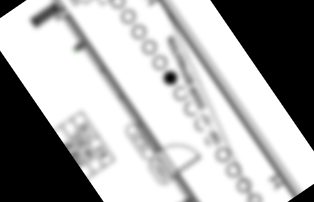door: (158, 132, 202, 176)
